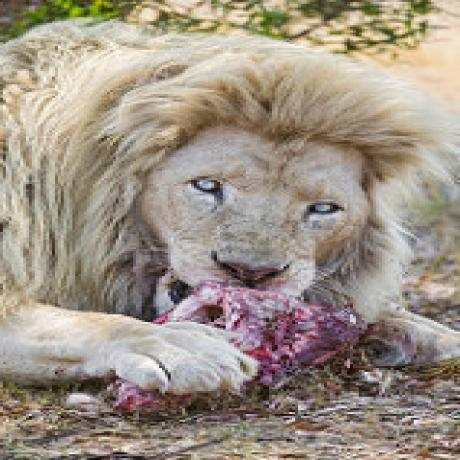Lion: (0, 7, 448, 402)
